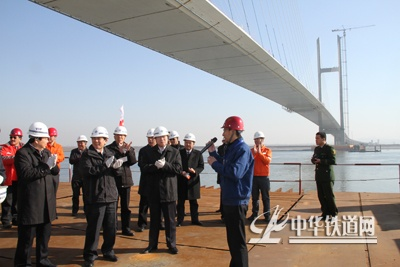none: (314, 131, 327, 147)
red: (220, 115, 244, 144), (9, 127, 22, 146), (46, 127, 58, 142)
white: (27, 122, 48, 148), (89, 126, 108, 148), (153, 125, 169, 148), (112, 126, 128, 143), (182, 132, 195, 149), (252, 130, 265, 145), (75, 134, 88, 149), (146, 128, 156, 147), (168, 130, 179, 145)
